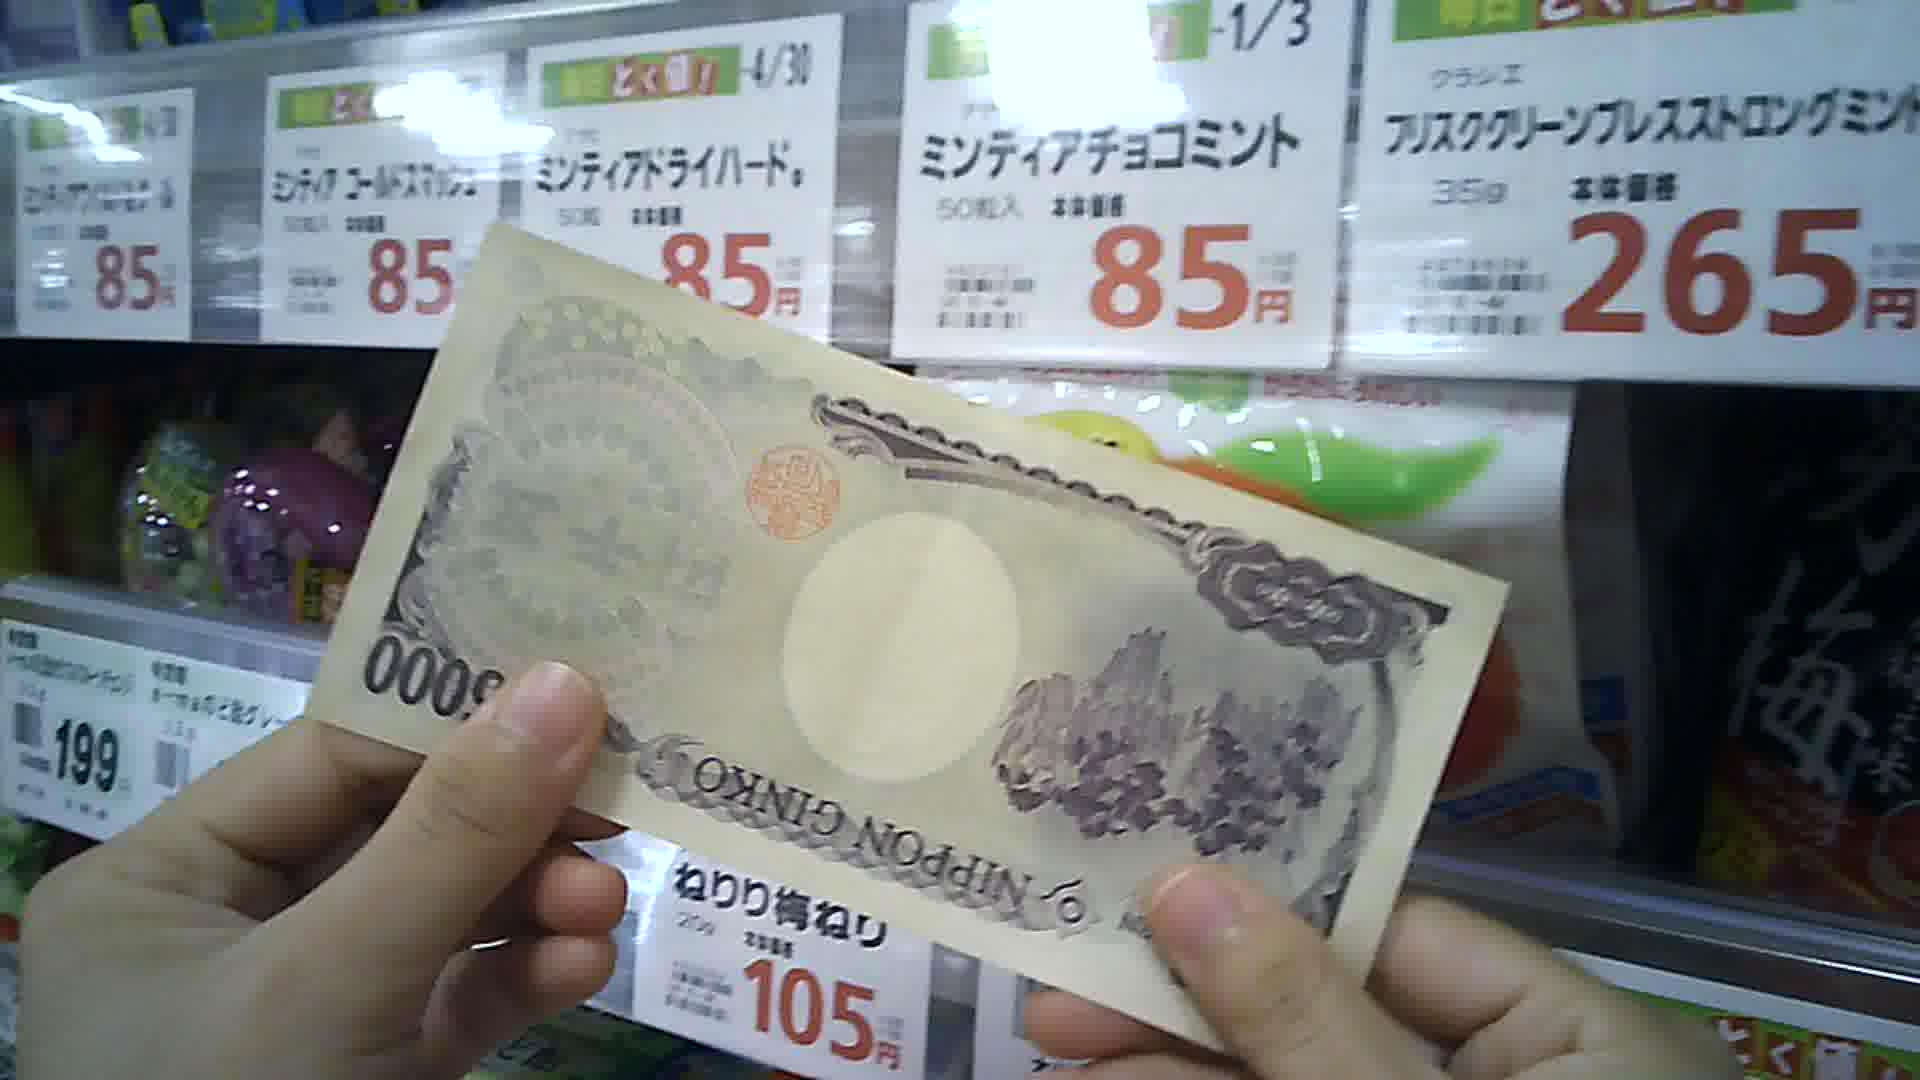5,000 Yen: (301, 218, 1516, 1038)
